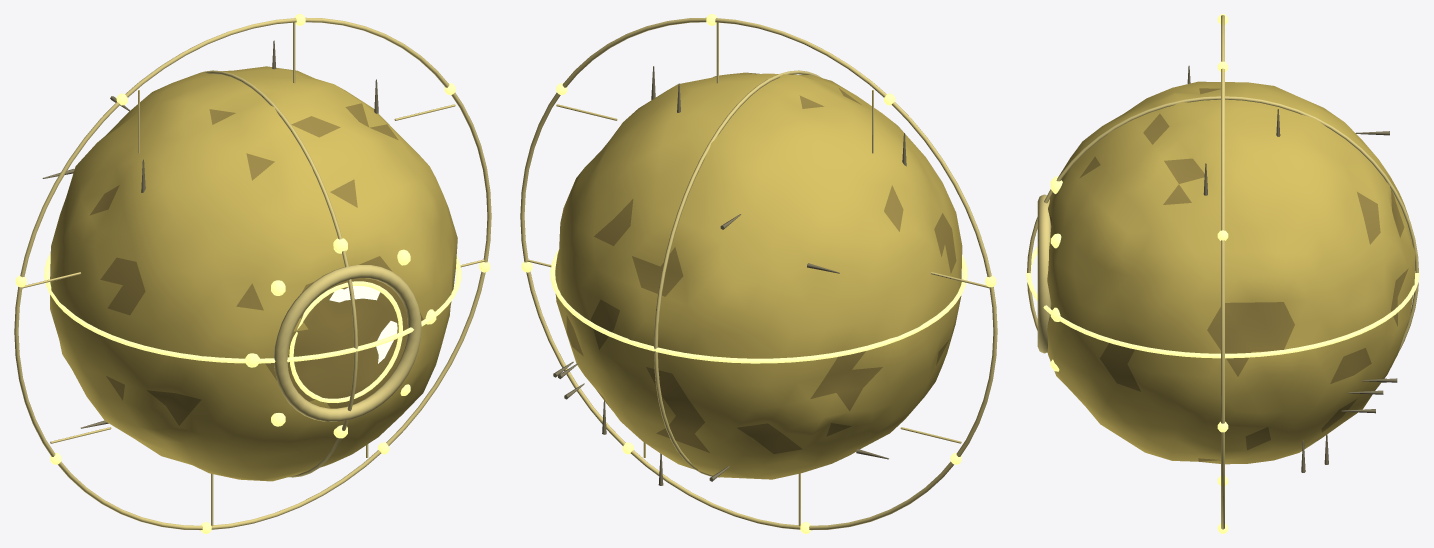
File: moon.glb
3 views of the same model, side by side, from view 1: azimuth 30°, elevation 25°; view 2: azimuth 150°, elevation 25°; view 3: azimuth 270°, elevation 25° (orthographic). The views are drawn at different scales.
Parts seen in each view (by area): view 1: moon; view 2: moon; view 3: moon.
Part boxes in pixels (box(x1,y1,x2,y2)): moon: box(14, 14, 491, 533); moon: box(520, 14, 997, 533); moon: box(1026, 14, 1419, 533).
Bounding box in the file's own units: 2.7 × 2.7 × 2.05.
